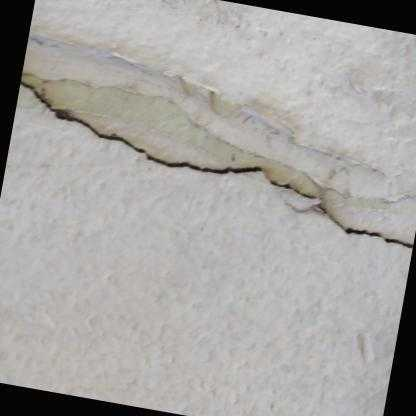crack: (19, 79, 413, 247)
